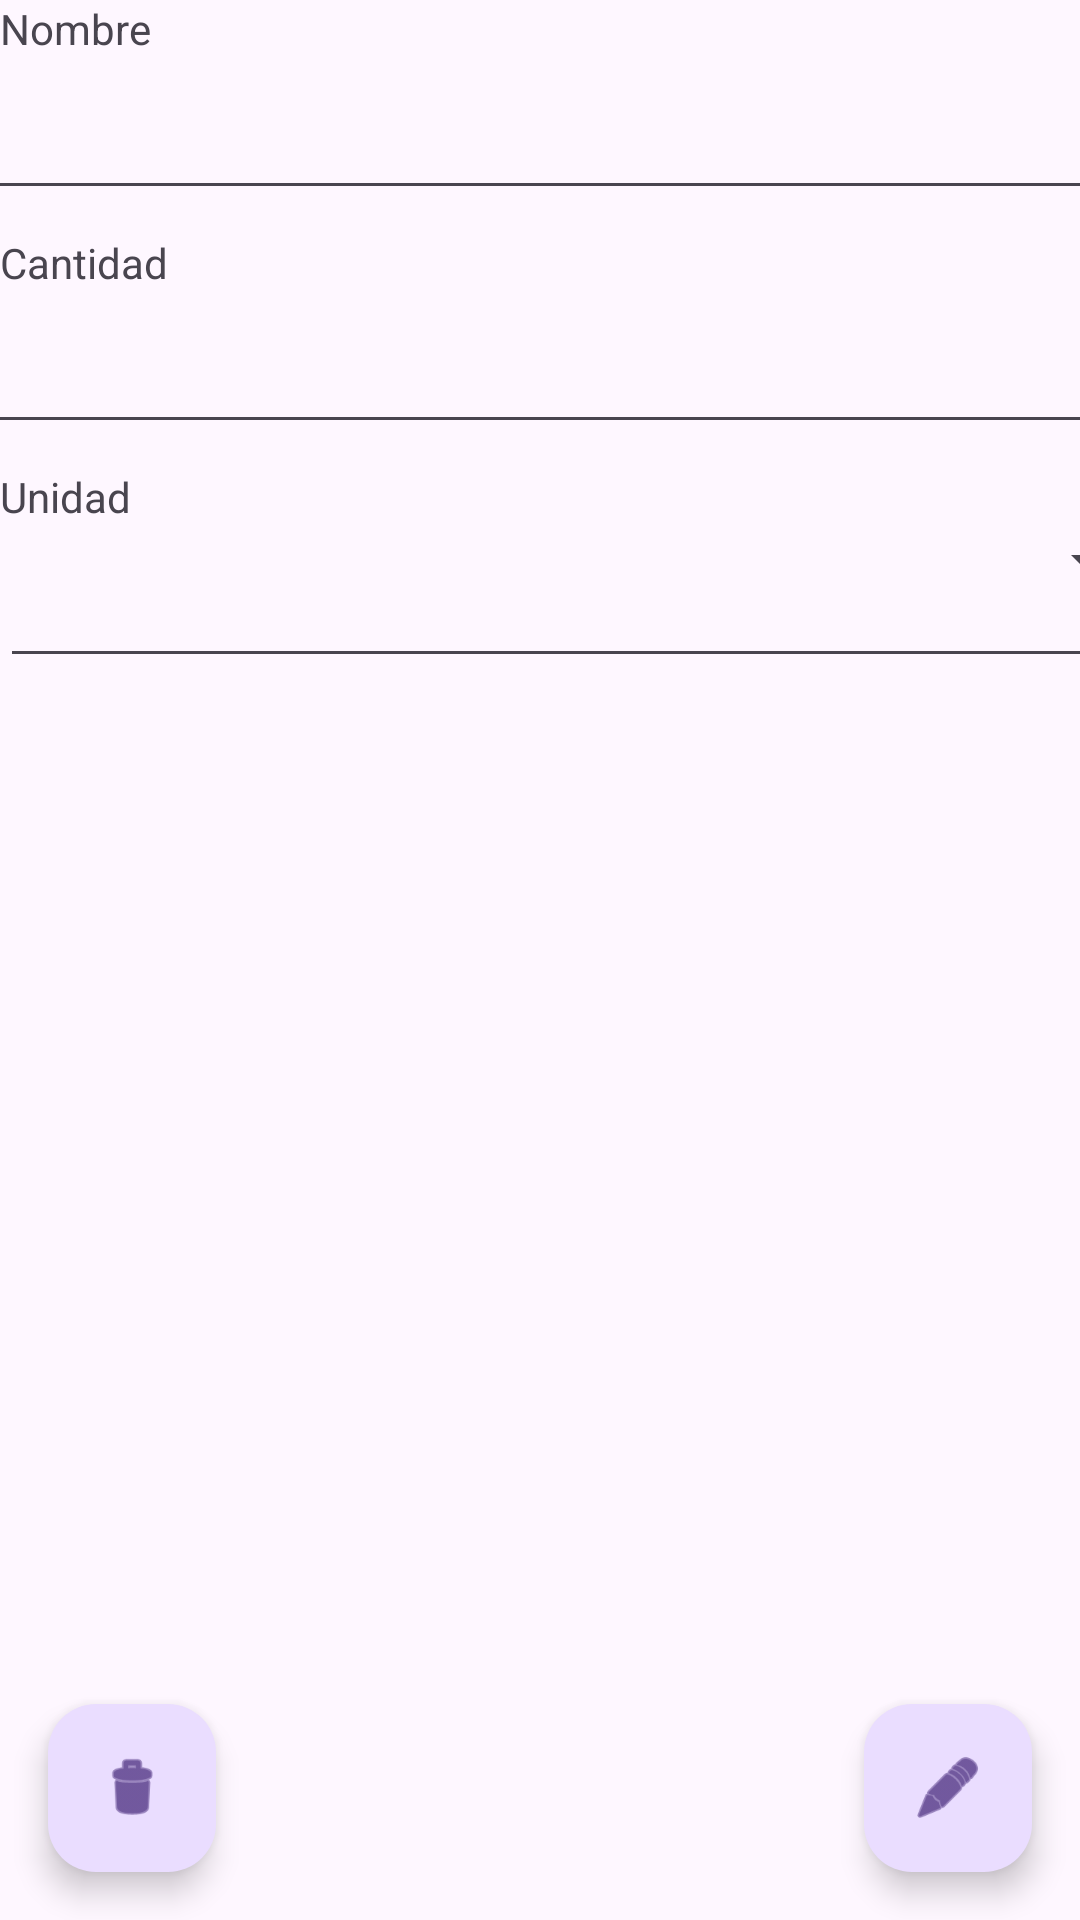

Point at icon controls on the screen. Image size 1080×1920, points as [x,y].
delete: [132,1788]
edit: [948,1788]
